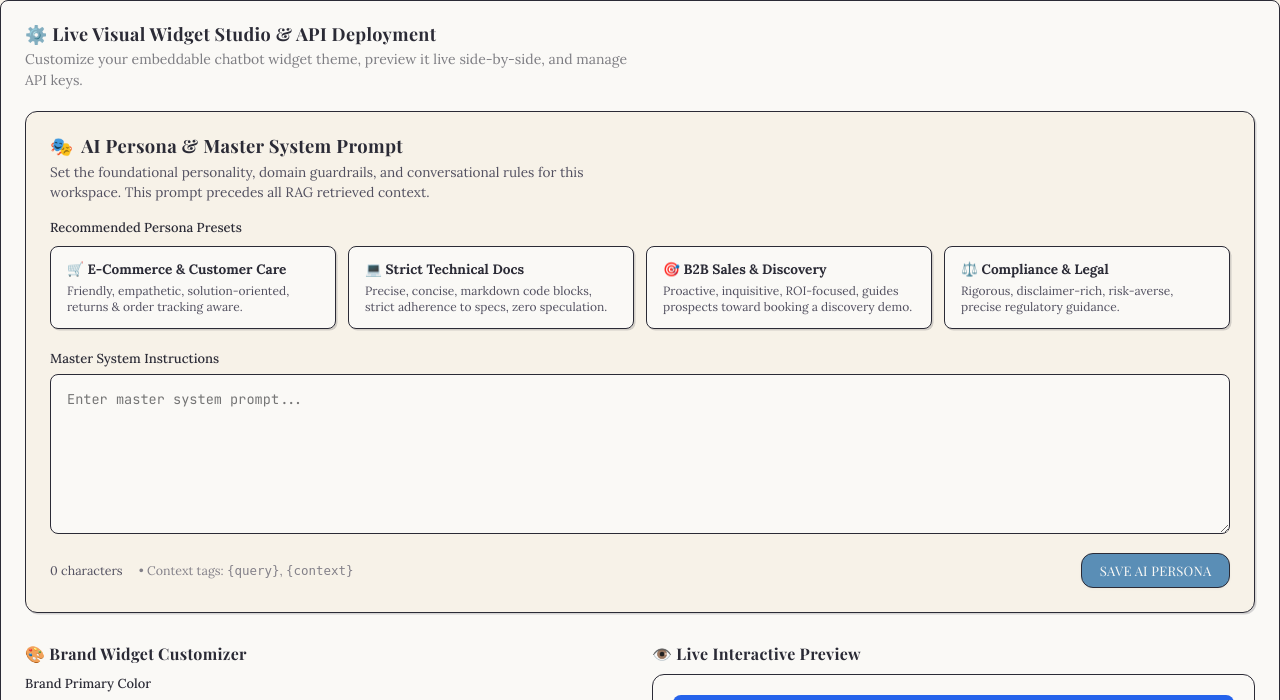
Scenario: PersonaPromptConfig in ConfigPanel (Phase 8) › successfully updates system prompt when saving
Type "Brand new system prompt" into the text box named "Master System Prompt Instructions" at (640, 454), box [50,374,1230,534]
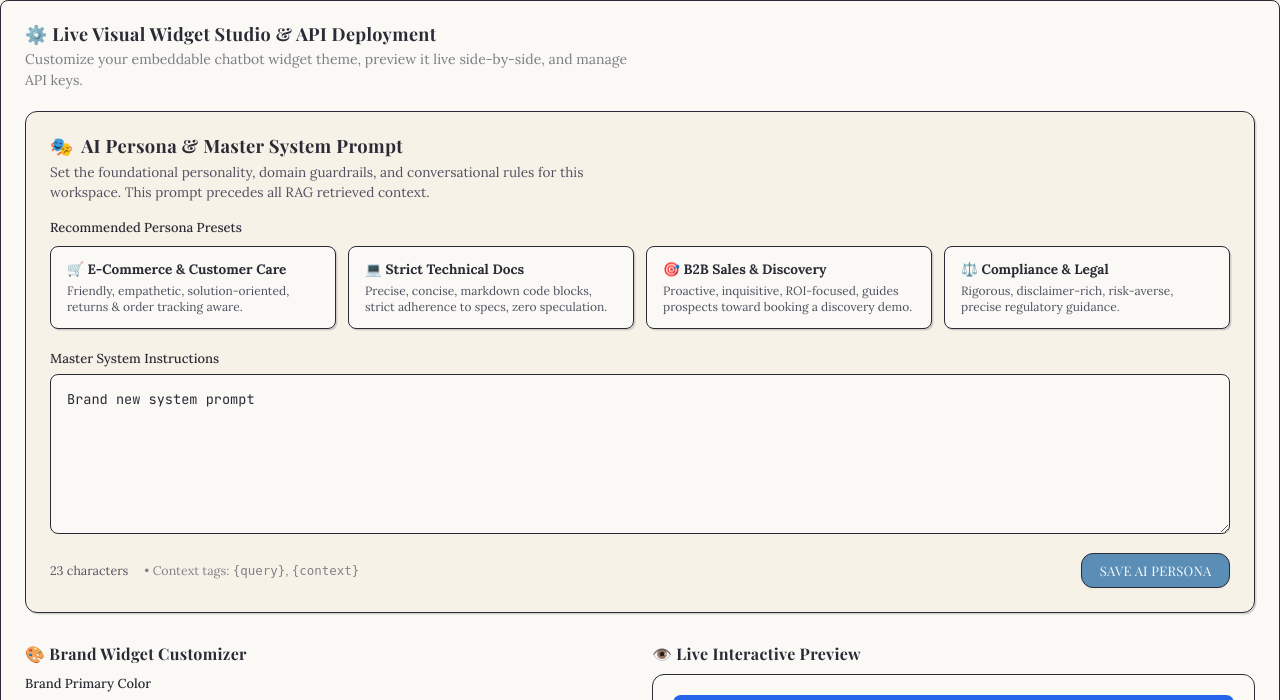
Click the button "Save AI Persona" at (1156, 571), box [1081,553,1230,588]
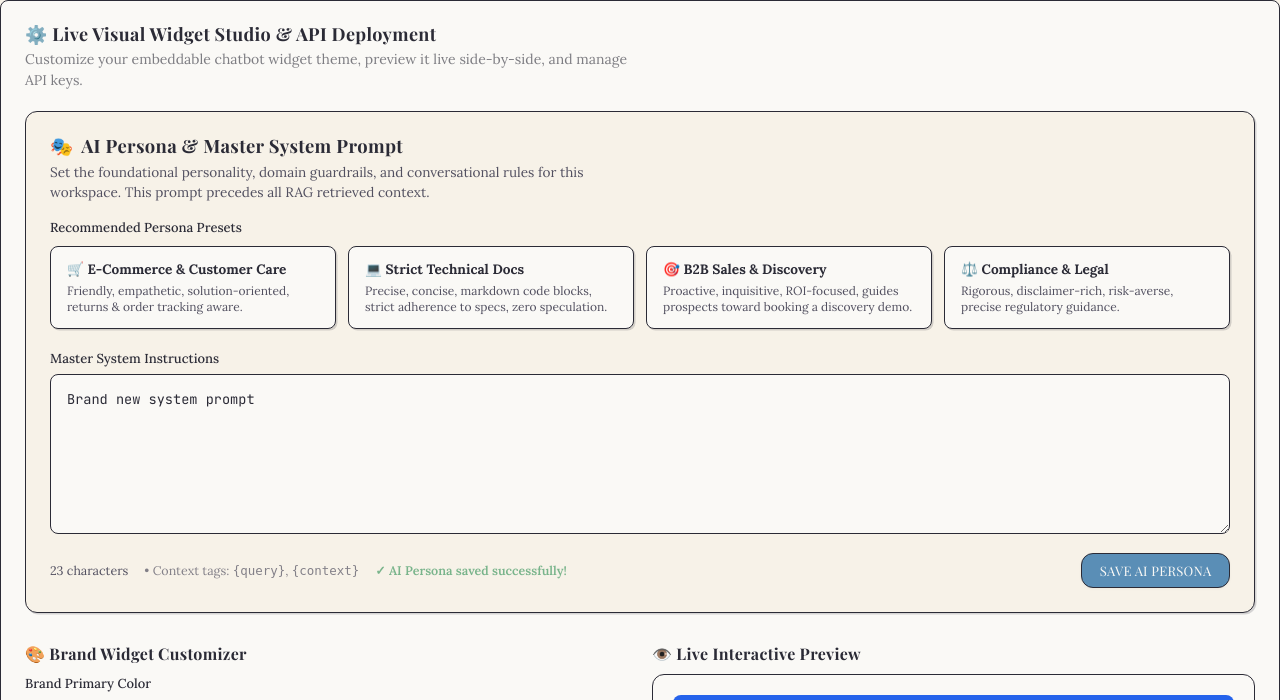
Expected: the text "✓ AI Persona saved successfully!" is shown, [375,561,567,580]
